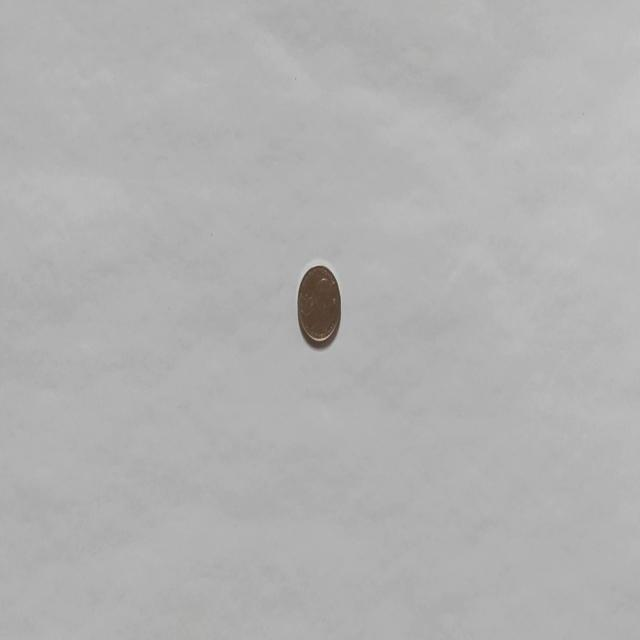seribu rupiah koin: (296, 260, 342, 346)
